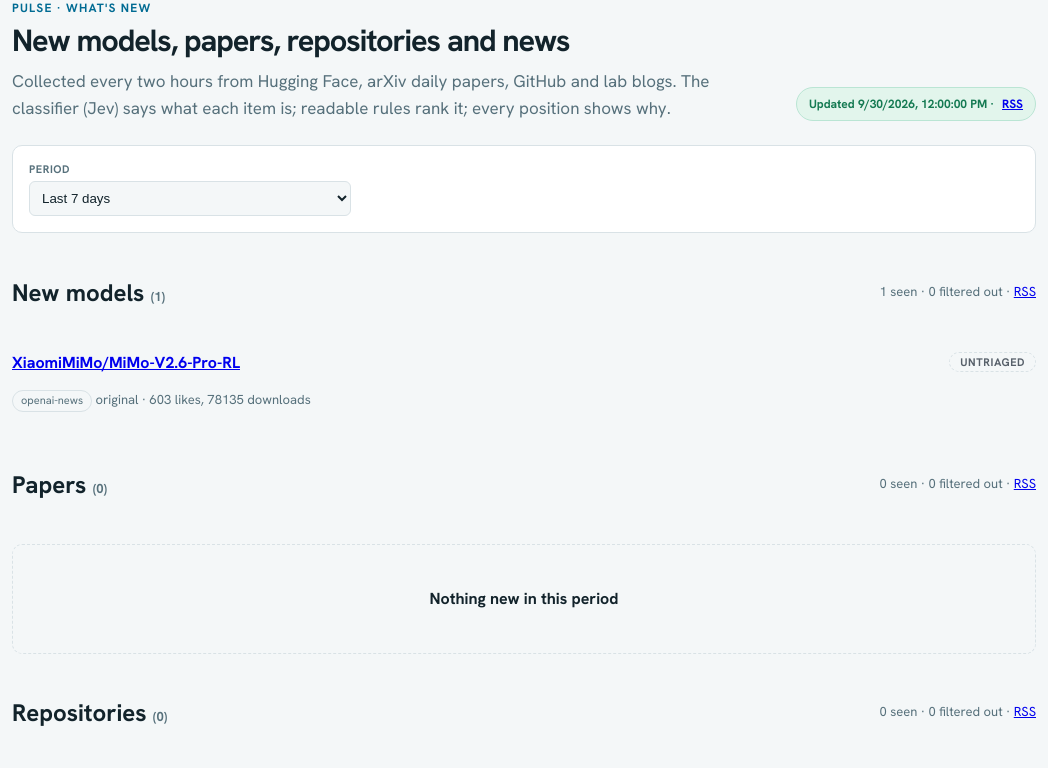
the period filter widens to everything in the window
Select "Everything in the window" in the dropdown labelled "Period" at [190, 198], box top-left (29, 181), bottom-right (351, 216)
(page scrolled)
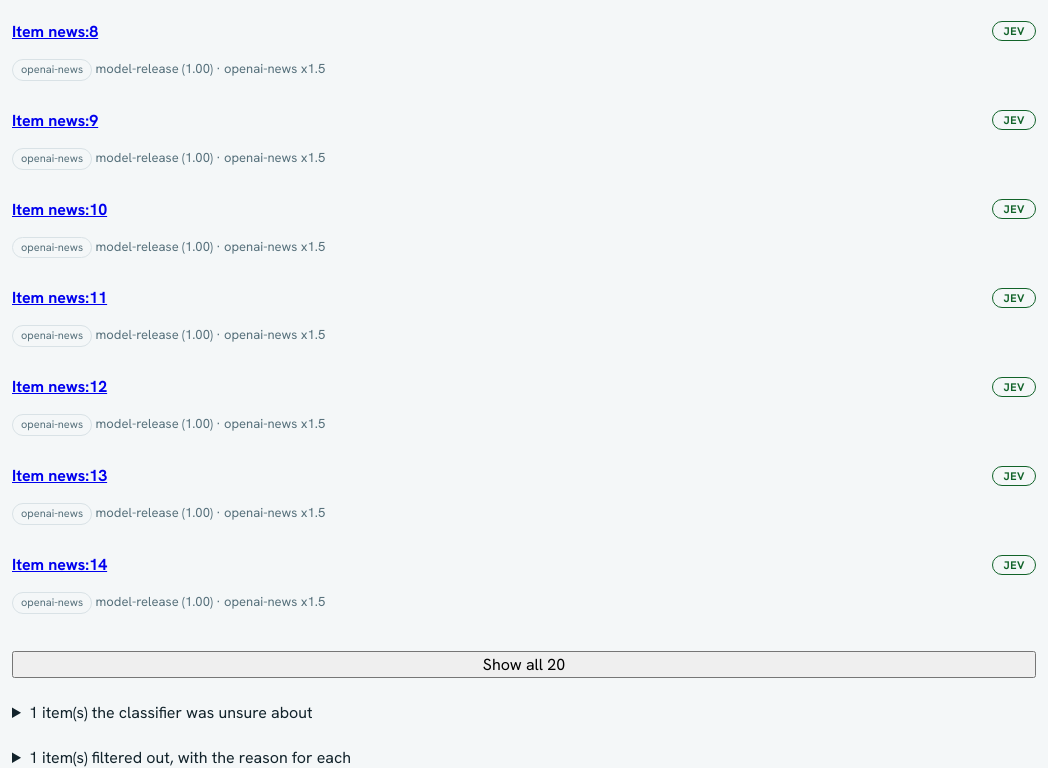
Click the button "Show all 20".
click(524, 665)  # box top-left (12, 651), bottom-right (1036, 678)
(page scrolled)
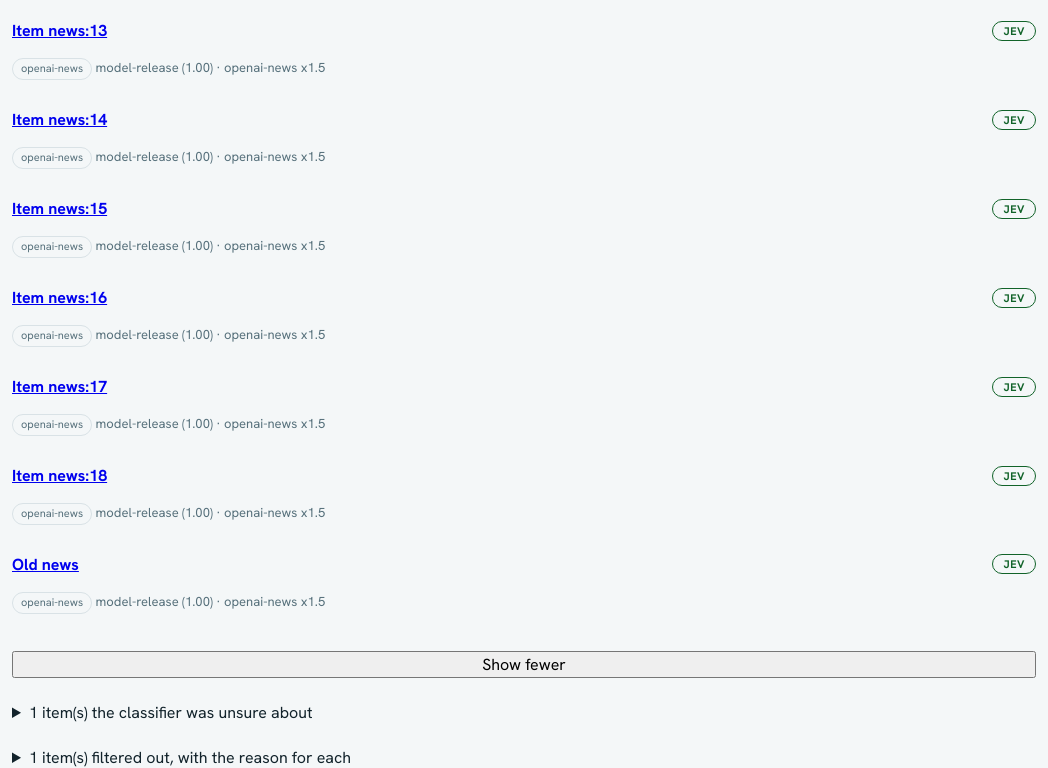
Result: the link "Old news" is shown at top-left (12, 554), bottom-right (79, 575)
